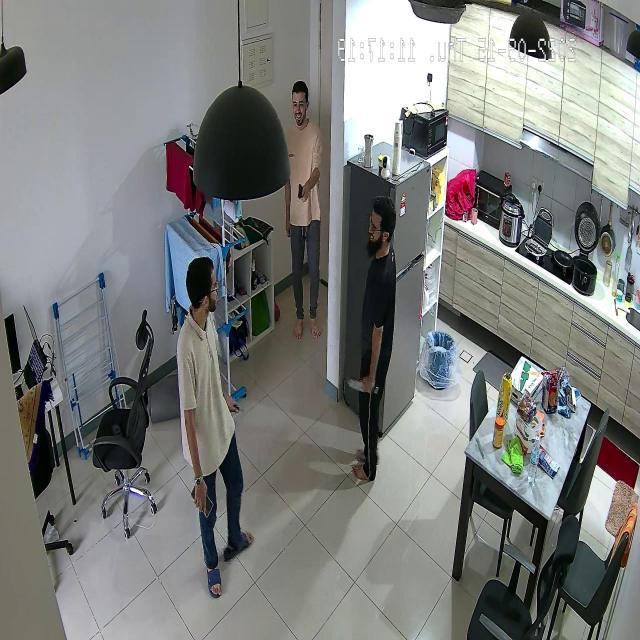Gun: (292, 178, 314, 211)
Knife: (345, 372, 392, 408)
